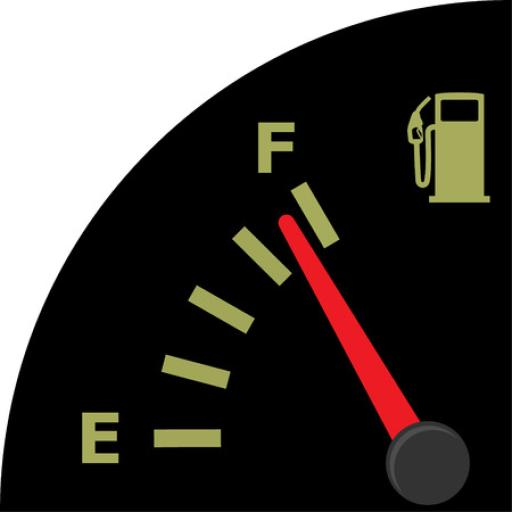empty: (77, 402, 126, 472)
fuel_icon: (401, 79, 501, 218)
full: (251, 112, 302, 182)
guage_area: (2, 10, 510, 512)
needle_center: (368, 404, 482, 511)
needle_tip: (268, 211, 312, 258)
